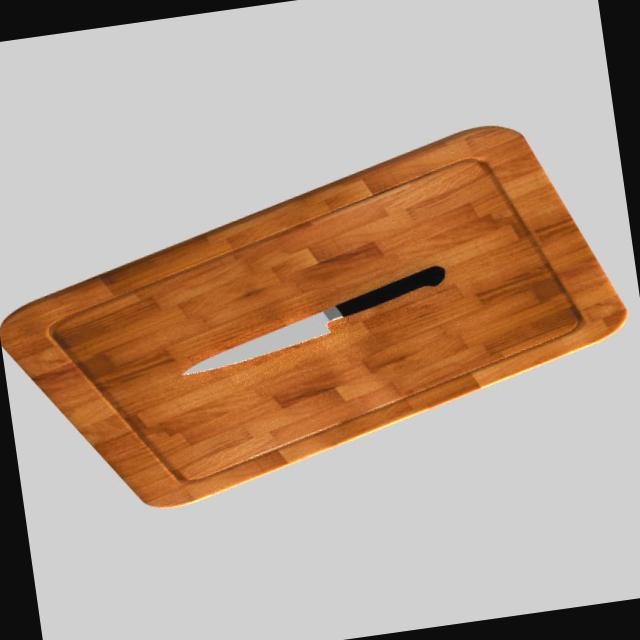knife: (330, 265, 448, 318)
